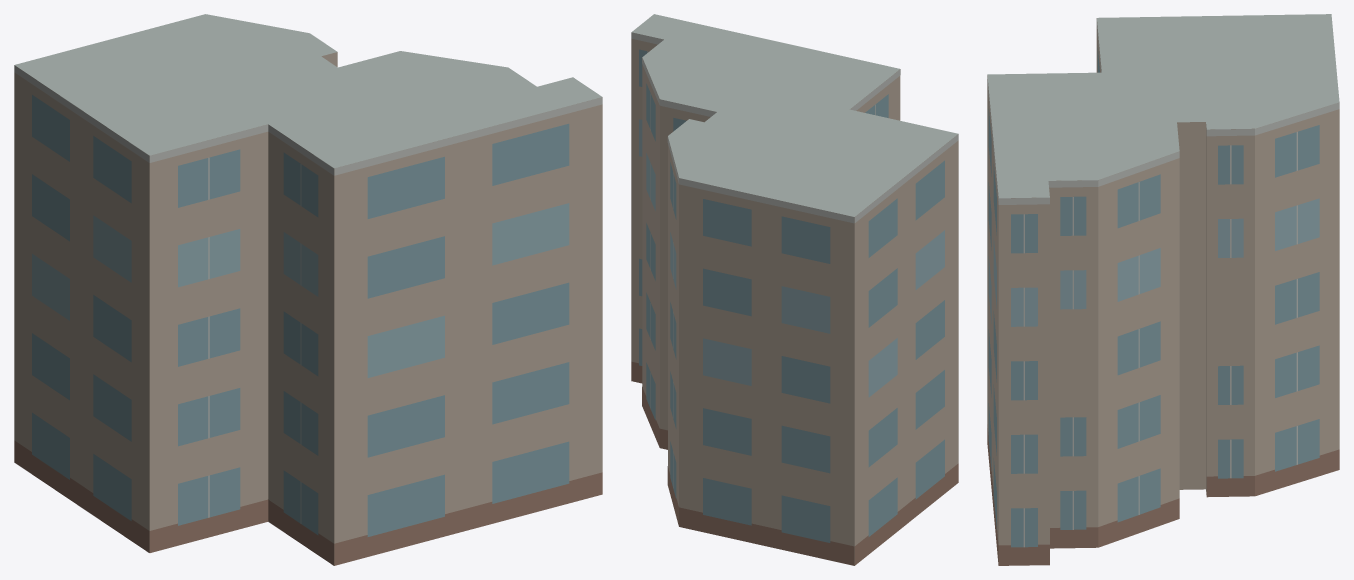
Rendered from survey-upis-32971224.glb.
3 renders of one model, left to right at view 1: azimuth 30°, elevation 25°; view 2: azimuth 150°, elevation 25°; view 3: azimuth 270°, elevation 25°, orthographic. The views are drawn at different scales.
Parts seen in each view (by area): view 1: survey-upis-32971224.tmp; view 2: survey-upis-32971224.tmp; view 3: survey-upis-32971224.tmp.
Boxes of the visible parts, x1=… form: survey-upis-32971224.tmp: x1=14, y1=14, x2=602, y2=565; survey-upis-32971224.tmp: x1=631, y1=14, x2=958, y2=565; survey-upis-32971224.tmp: x1=987, y1=14, x2=1339, y2=565.
Size of the model in its own units: 14.21 by 13.2 by 11.47.
